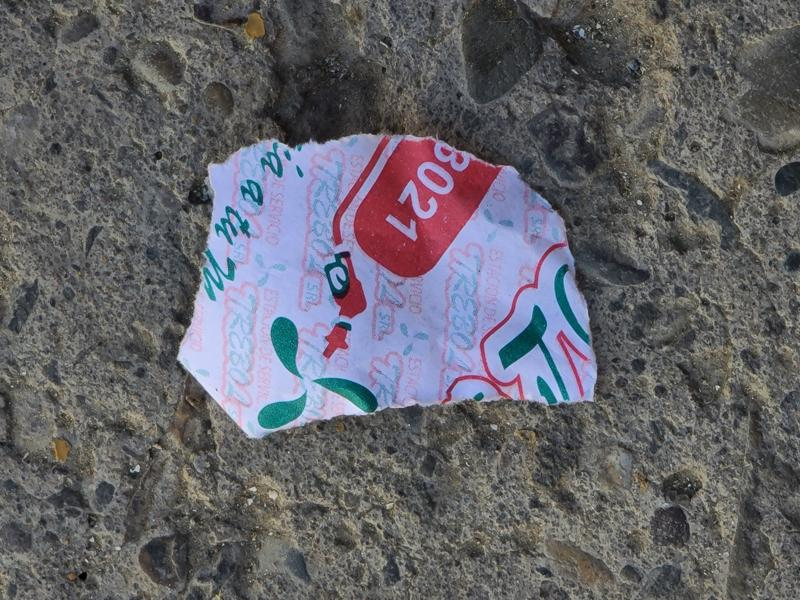papel: (176, 134, 599, 441)
